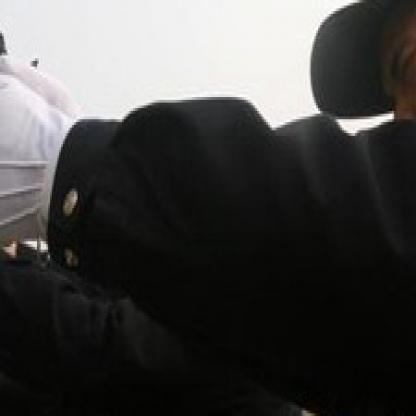gun: (0, 8, 43, 114)
